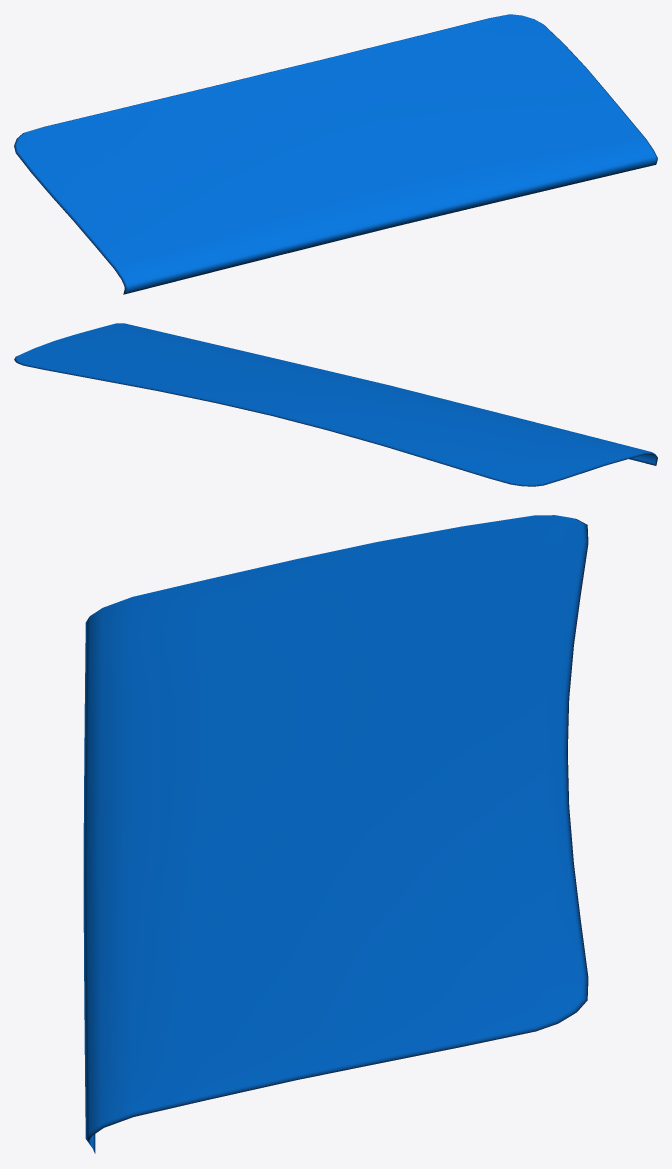
The model's file is Camaro_Boot01_Duco.fbx.
The picture shows the model from 3 angles, top to bottom: view 1: azimuth 30°, elevation 25°; view 2: azimuth 150°, elevation 25°; view 3: azimuth 270°, elevation 25°; orthographic projection. The views are drawn at different scales.
Parts seen in each view (by area): view 1: Camaro_Boot01_Duco; view 2: Camaro_Boot01_Duco; view 3: Camaro_Boot01_Duco.
Boxes of the visible parts, bbox=[...] form: Camaro_Boot01_Duco: bbox=[14, 14, 657, 294]; Camaro_Boot01_Duco: bbox=[14, 323, 657, 486]; Camaro_Boot01_Duco: bbox=[83, 515, 588, 1153].
Bounding box in the file's own units: 1.44 × 0.5881 × 0.1864.
